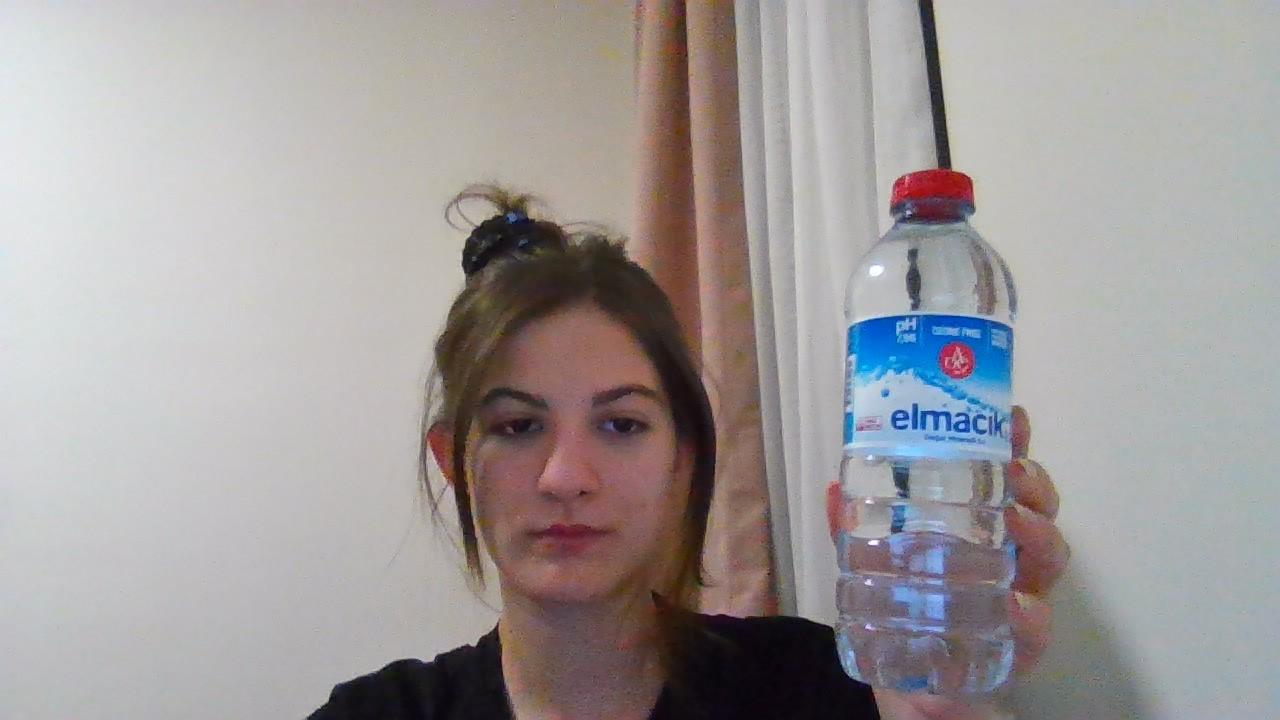bottle: (845, 167, 1021, 696)
